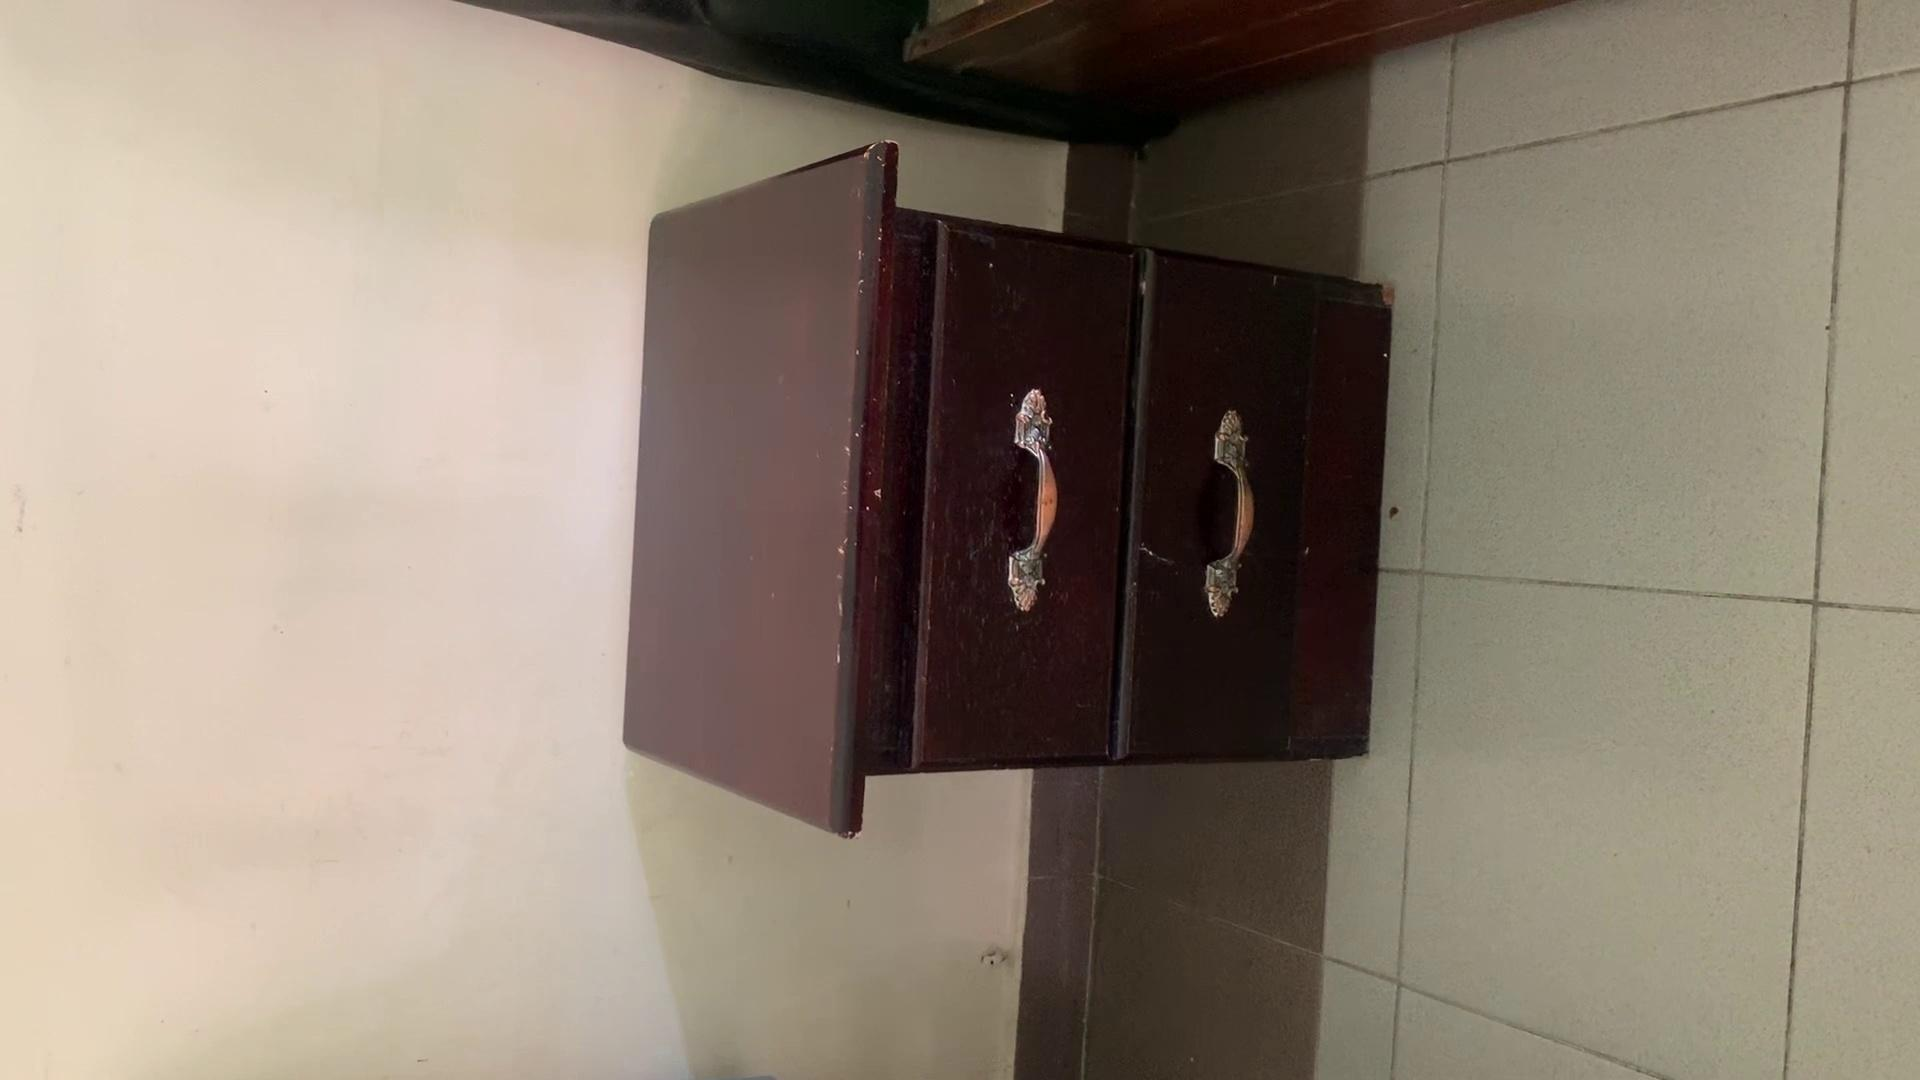cabinet_door: (919, 247, 1118, 764), (1143, 276, 1323, 758)
handle: (998, 389, 1079, 620), (1197, 402, 1269, 625)
